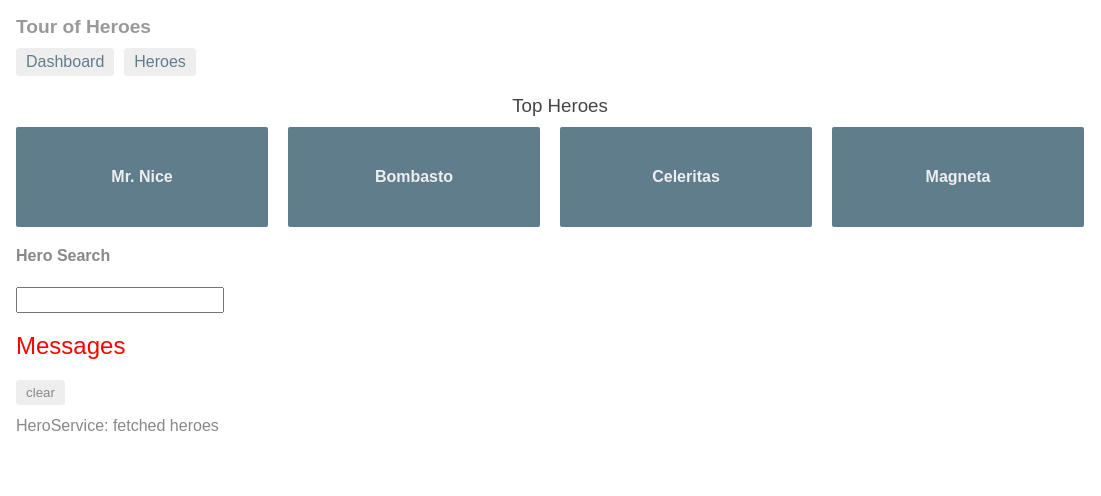
Initial page › has title 'Tour of Heroes'
Expected: the heading "Top Heroes" is shown, x1=512 y1=95 x2=608 y2=116
Expected: the heading "Hero Search" is shown, x1=16 y1=247 x2=110 y2=264
// interacting with an element
Click the button "clear" at (41, 393), box x1=16 y1=380 x2=65 y2=405
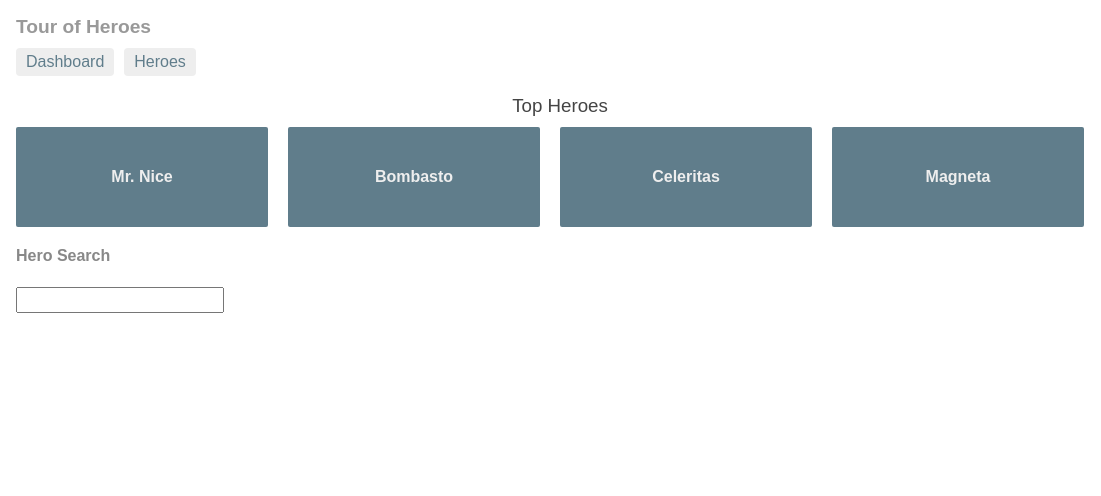
// new elements
Type "Mr. Nice" into the field with id "search-box" at (120, 300), box x1=16 y1=287 x2=224 y2=313
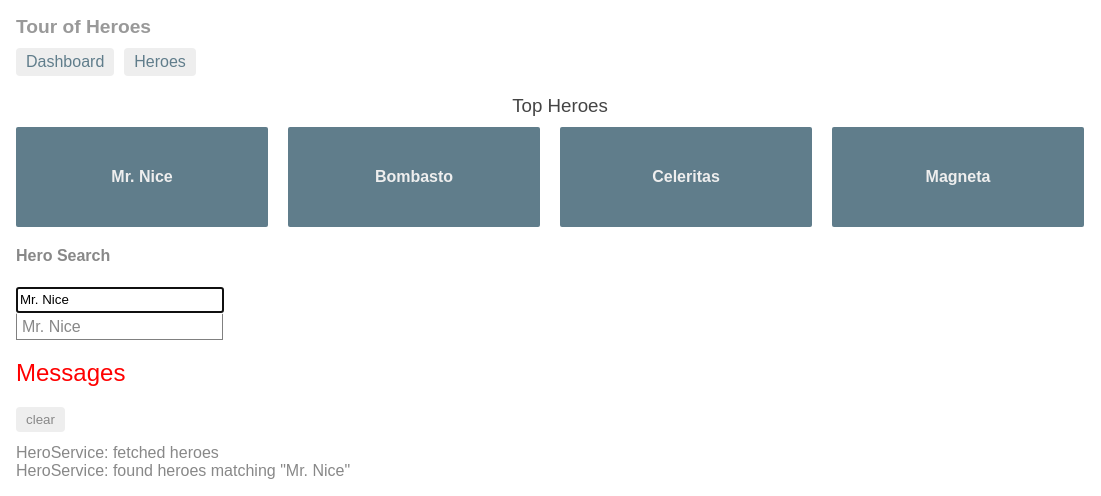
Expected: the link "Mr. Nice" below "Hero Search" is shown, x1=22 y1=318 x2=81 y2=335
